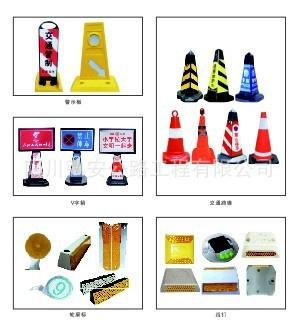cone_barrel: (69, 25, 120, 94), (203, 47, 233, 100), (160, 109, 188, 164), (249, 110, 276, 164), (234, 50, 263, 100), (217, 107, 244, 160), (175, 48, 202, 100), (190, 107, 215, 163)
